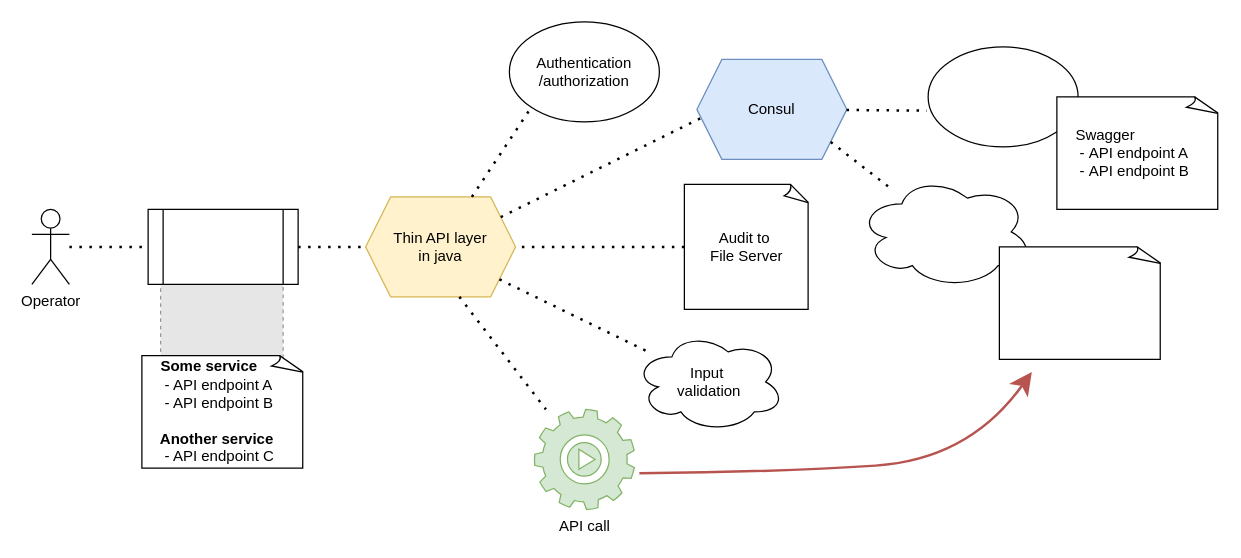
Image size: 1241x558. Some labels were removed from this diagram. Grey dashed boxes stand in for pictures. The shapes that lost their labels are listed below. From the top down, each one's centre as x and y in pixels, then its label:
At (x=1002, y=96): "Some service".
At (x=222, y=246): "React.js".
At (x=945, y=231): "Another service".
At (x=1080, y=302): "OpenAPI - API endpoint C".
